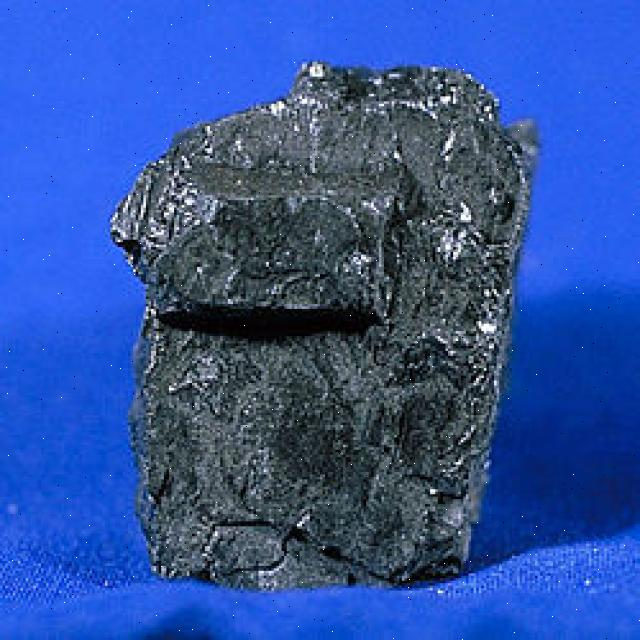Sedimentary: (120, 54, 530, 593)
